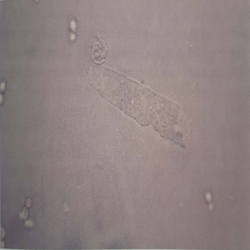Cast: (83, 61, 204, 165), (86, 33, 112, 69)
